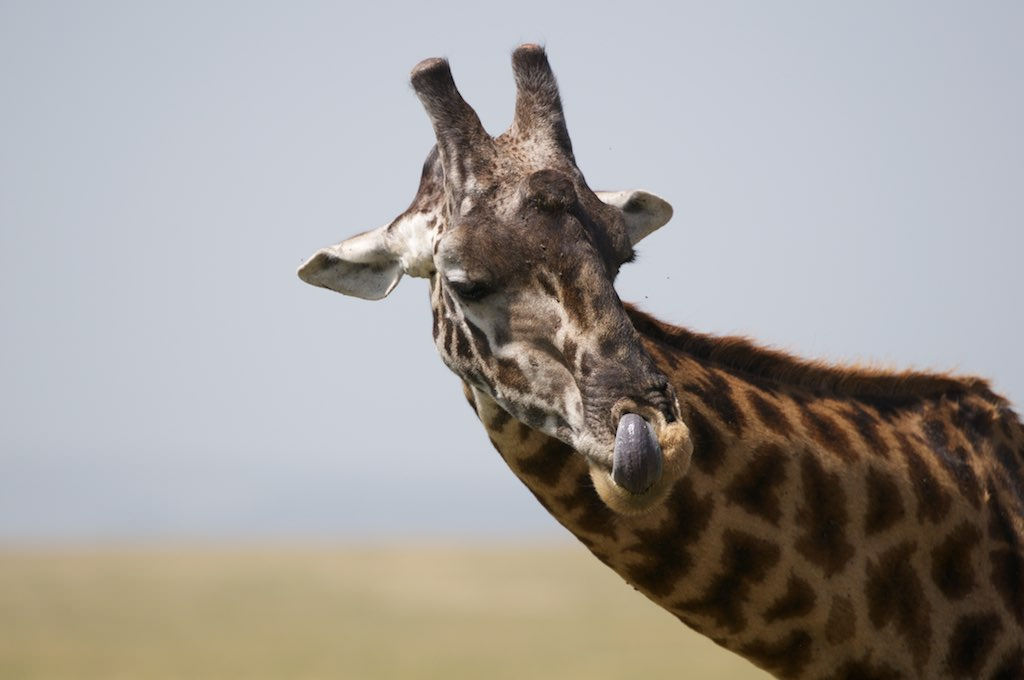giraffe: (346, 62, 1024, 655)
